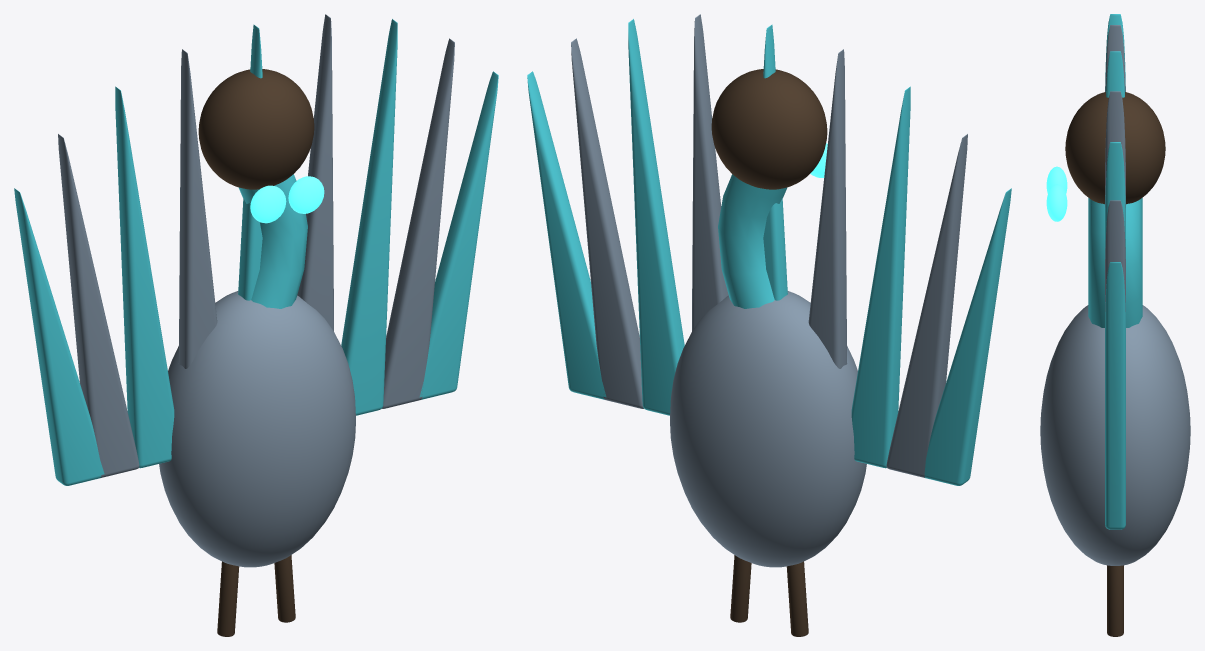
Rendered from avian_v8.glb.
3 renders of one model, left to right at view 1: azimuth 30°, elevation 25°; view 2: azimuth 150°, elevation 25°; view 3: azimuth 270°, elevation 25°, orthographic. The views are drawn at different scales.
Parts seen in each view (by area): view 1: PEACOCK_BODY_PRIMARY, PEACOCK_TAIL_ACCENT.003, PEACOCK_TAIL_ACCENT.001, PEACOCK_HEAD_SECONDARY, PEACOCK_TAIL_PRIMARY.003, PEACOCK_TAIL_PRIMARY, PEACOCK_TAIL_ACCENT, PEACOCK_TAIL_ACCENT.004, PEACOCK_TAIL_PRIMARY.001, PEACOCK_TAIL_PRIMARY.002, PEACOCK_NECK_ACCENT, PEACOCK_TAIL_ACCENT.002 (+4 smaller); view 2: PEACOCK_BODY_PRIMARY, PEACOCK_TAIL_ACCENT.003, PEACOCK_TAIL_ACCENT.001, PEACOCK_HEAD_SECONDARY, PEACOCK_TAIL_PRIMARY.003, PEACOCK_TAIL_PRIMARY, PEACOCK_TAIL_ACCENT.004, PEACOCK_TAIL_ACCENT, PEACOCK_TAIL_PRIMARY.001, PEACOCK_TAIL_PRIMARY.002, PEACOCK_NECK_ACCENT, PEACOCK_TAIL_ACCENT.002 (+2 smaller); view 3: PEACOCK_BODY_PRIMARY, PEACOCK_HEAD_SECONDARY, PEACOCK_TAIL_ACCENT.004, PEACOCK_NECK_ACCENT, PEACOCK_TAIL_PRIMARY.003, PEACOCK_TAIL_ACCENT.003, PEACOCK_LEG_SECONDARY.001, PEACOCK_TAIL_PRIMARY.002, PEACOCK_TAIL_ACCENT.002, EYE_EMISSIVE.001, PEACOCK_TAIL_PRIMARY.001, EYE_EMISSIVE (+1 smaller).
Boxes of the visible parts, x1=… form: PEACOCK_BODY_PRIMARY: x1=159, y1=291, x2=355, y2=567; PEACOCK_TAIL_ACCENT.003: x1=341, y1=19, x2=397, y2=415; PEACOCK_TAIL_ACCENT.001: x1=115, y1=86, x2=174, y2=468; PEACOCK_HEAD_SECONDARY: x1=198, y1=69, x2=314, y2=189; PEACOCK_TAIL_PRIMARY.003: x1=382, y1=38, x2=454, y2=408; PEACOCK_TAIL_PRIMARY: x1=58, y1=134, x2=139, y2=477; PEACOCK_TAIL_ACCENT: x1=14, y1=188, x2=104, y2=485; PEACOCK_TAIL_ACCENT.004: x1=419, y1=71, x2=498, y2=399; PEACOCK_TAIL_PRIMARY.001: x1=178, y1=49, x2=217, y2=368; PEACOCK_TAIL_PRIMARY.002: x1=297, y1=14, x2=333, y2=330; PEACOCK_NECK_ACCENT: x1=238, y1=174, x2=307, y2=308; PEACOCK_TAIL_ACCENT.002: x1=238, y1=24, x2=262, y2=300; PEACOCK_BODY_PRIMARY: x1=670, y1=291, x2=866, y2=567; PEACOCK_TAIL_ACCENT.003: x1=628, y1=19, x2=684, y2=415; PEACOCK_TAIL_ACCENT.001: x1=851, y1=86, x2=910, y2=468; PEACOCK_HEAD_SECONDARY: x1=711, y1=69, x2=827, y2=189; PEACOCK_TAIL_PRIMARY.003: x1=571, y1=38, x2=643, y2=408; PEACOCK_TAIL_PRIMARY: x1=886, y1=134, x2=967, y2=477; PEACOCK_TAIL_ACCENT.004: x1=527, y1=71, x2=606, y2=399; PEACOCK_TAIL_ACCENT: x1=924, y1=188, x2=1011, y2=485; PEACOCK_TAIL_PRIMARY.001: x1=808, y1=49, x2=847, y2=368; PEACOCK_TAIL_PRIMARY.002: x1=692, y1=14, x2=728, y2=330; PEACOCK_NECK_ACCENT: x1=718, y1=174, x2=787, y2=308; PEACOCK_TAIL_ACCENT.002: x1=763, y1=24, x2=787, y2=300; PEACOCK_BODY_PRIMARY: x1=1040, y1=305, x2=1190, y2=565; PEACOCK_HEAD_SECONDARY: x1=1065, y1=92, x2=1165, y2=204; PEACOCK_TAIL_ACCENT.004: x1=1105, y1=262, x2=1125, y2=529; PEACOCK_NECK_ACCENT: x1=1088, y1=198, x2=1142, y2=327; PEACOCK_TAIL_PRIMARY.003: x1=1105, y1=200, x2=1125, y2=311; PEACOCK_TAIL_ACCENT.003: x1=1105, y1=142, x2=1125, y2=258; PEACOCK_LEG_SECONDARY.001: x1=1107, y1=565, x2=1123, y2=636; PEACOCK_TAIL_PRIMARY.002: x1=1105, y1=91, x2=1125, y2=207; PEACOCK_TAIL_ACCENT.002: x1=1106, y1=51, x2=1124, y2=97; EYE_EMISSIVE.001: x1=1046, y1=184, x2=1067, y2=221; PEACOCK_TAIL_PRIMARY.001: x1=1105, y1=25, x2=1125, y2=91; EYE_EMISSIVE: x1=1046, y1=166, x2=1067, y2=193.
Bounding box in the file's own units: 2.51 × 3.01 × 0.72.
